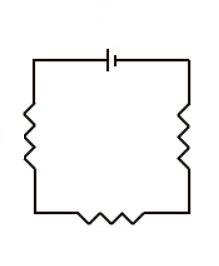resistor: (63, 194, 153, 238), (163, 89, 201, 178), (13, 86, 47, 182)
